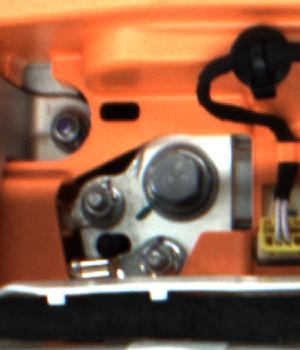nut_b: (146, 143, 215, 216)
